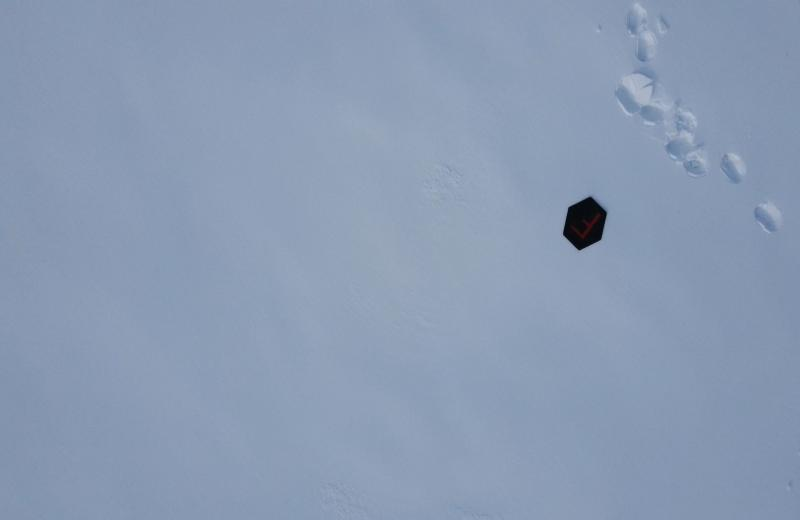Hexagon: (562, 196, 607, 253)
